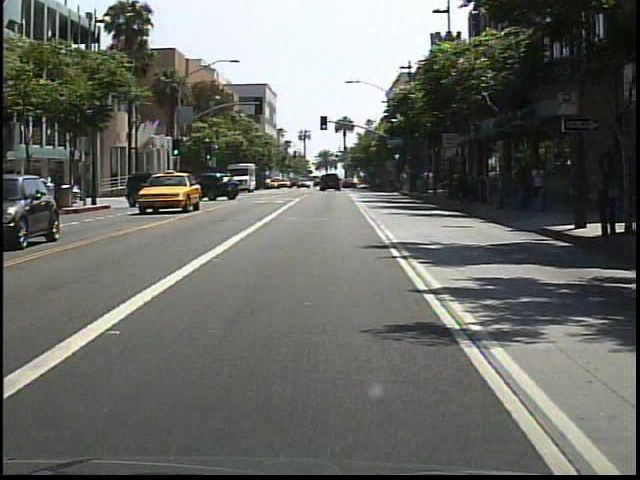person: (589, 149, 623, 243), (529, 161, 552, 216)
